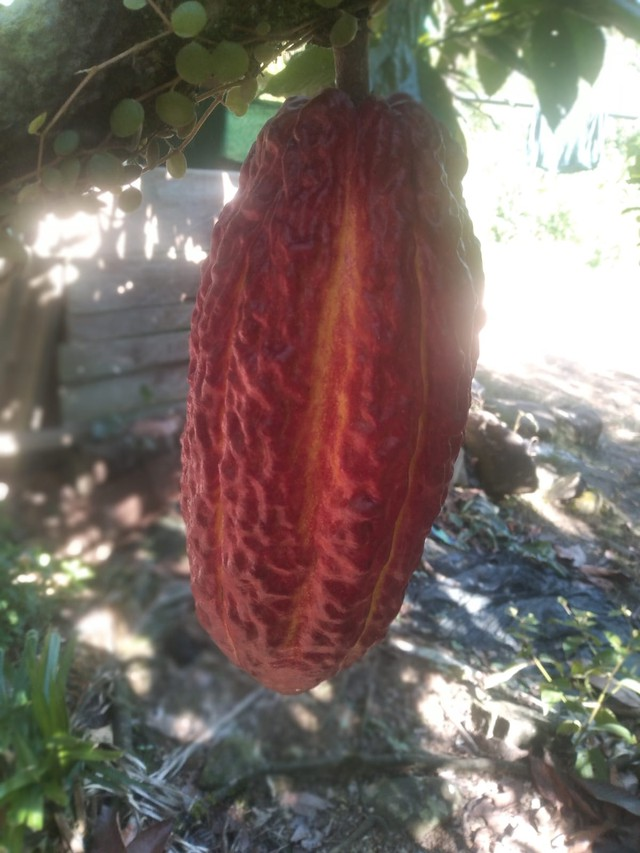Health: (162, 76, 491, 699)
